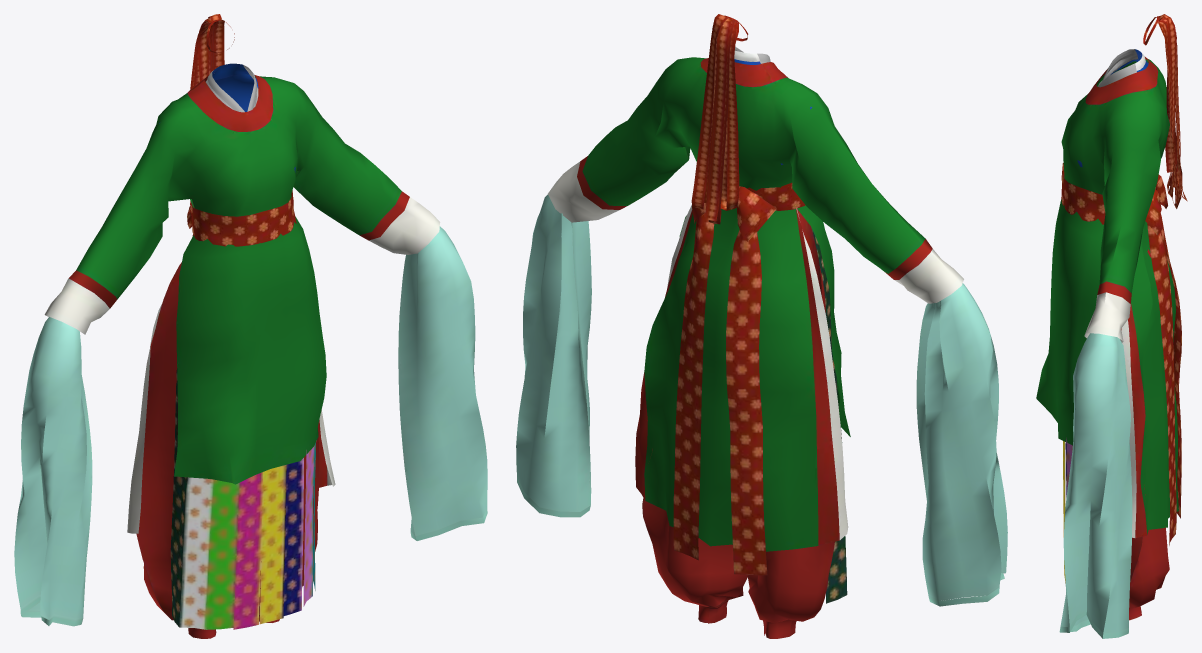
Rendered from cl_donggi.glb.
3 renders of one model, left to right at view 1: azimuth 30°, elevation 25°; view 2: azimuth 150°, elevation 25°; view 3: azimuth 270°, elevation 25°, orthographic. The views are drawn at different scales.
Visible parts, largest first — view 1: donggi_lambert2_0, donggi_lambert1_0; view 2: donggi_lambert2_0; view 3: donggi_lambert2_0, donggi_lambert1_0.
Part boxes in pixels (bbox=[...]): donggi_lambert2_0: bbox=[14, 14, 487, 638]; donggi_lambert1_0: bbox=[206, 65, 258, 112]; donggi_lambert2_0: bbox=[516, 14, 1007, 638]; donggi_lambert2_0: bbox=[1036, 14, 1187, 638]; donggi_lambert1_0: bbox=[1097, 49, 1138, 87].
Bounding box in the file's own units: 1.29 × 1.6 × 0.3751.
2 materials, 1 textured.
